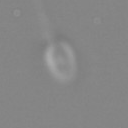normal: (29, 1, 55, 40)
